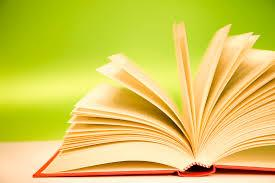Paper: (42, 9, 275, 183)
